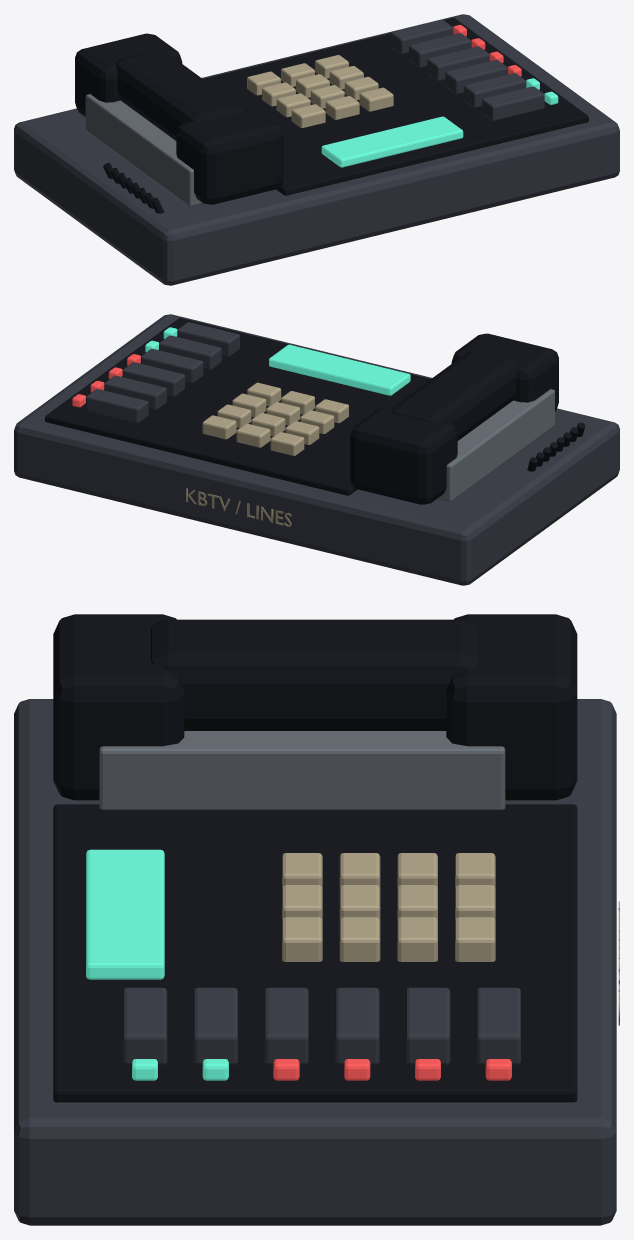
File: phone_board.glb
The picture shows the model from 3 angles, top to bottom: view 1: azimuth 30°, elevation 25°; view 2: azimuth 150°, elevation 25°; view 3: azimuth 270°, elevation 25°; orthographic projection. The views are drawn at different scales.
Parts seen in each view (by area): view 1: phone_board; view 2: phone_board; view 3: phone_board.
Boxes of the visible parts, x1,y1,x2,y2 form: phone_board: [14, 14, 619, 285]; phone_board: [14, 314, 619, 585]; phone_board: [14, 614, 619, 1225].
Size of the model in its own units: 0.78 by 0.2095 by 0.4625.
